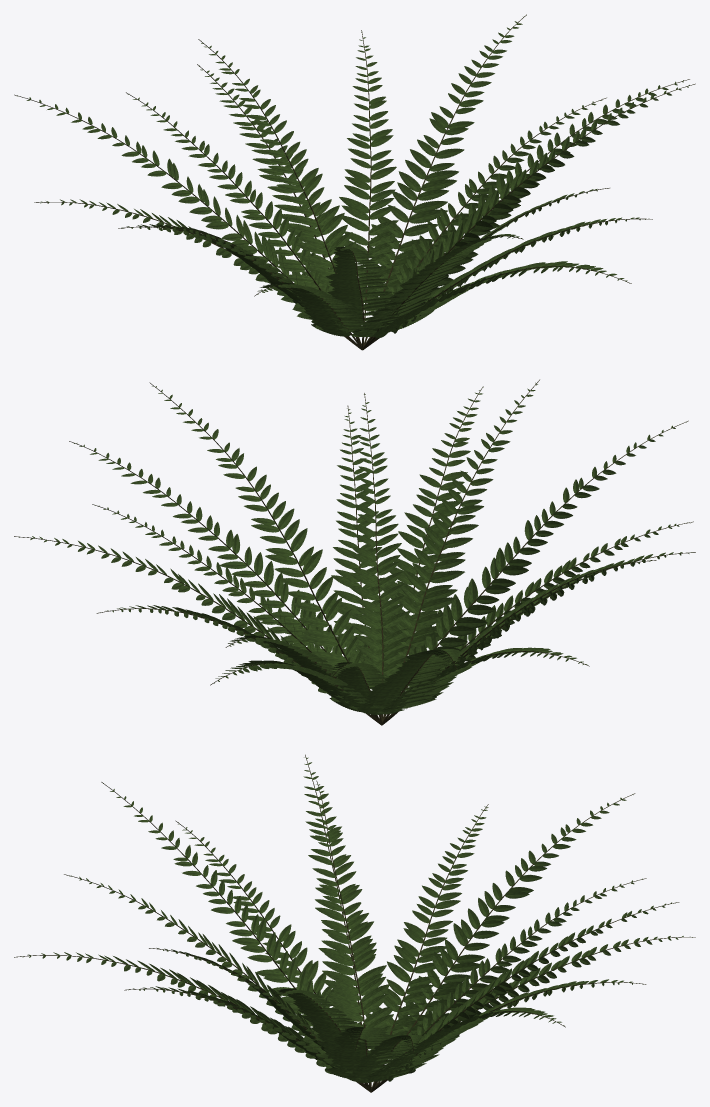
File: lady_fern_v02.fbx
The picture shows the model from 3 angles, top to bottom: view 1: azimuth 30°, elevation 25°; view 2: azimuth 150°, elevation 25°; view 3: azimuth 270°, elevation 25°; orthographic projection. The views are drawn at different scales.
Visible parts, largest first — view 1: lady_fern_v02; view 2: lady_fern_v02; view 3: lady_fern_v02.
Part boxes in pixels (bbox=[...]): lady_fern_v02: bbox=[14, 14, 695, 350]; lady_fern_v02: bbox=[14, 379, 695, 725]; lady_fern_v02: bbox=[14, 754, 695, 1092].
Bounding box in the file's own units: 137 × 52.92 × 141.
Materials: 2 (2 with a texture image).
